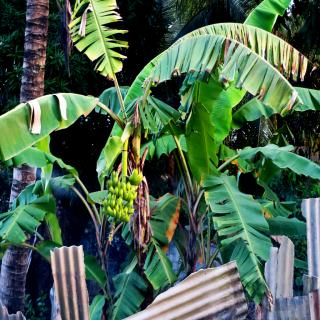Banana: (100, 164, 138, 236)
